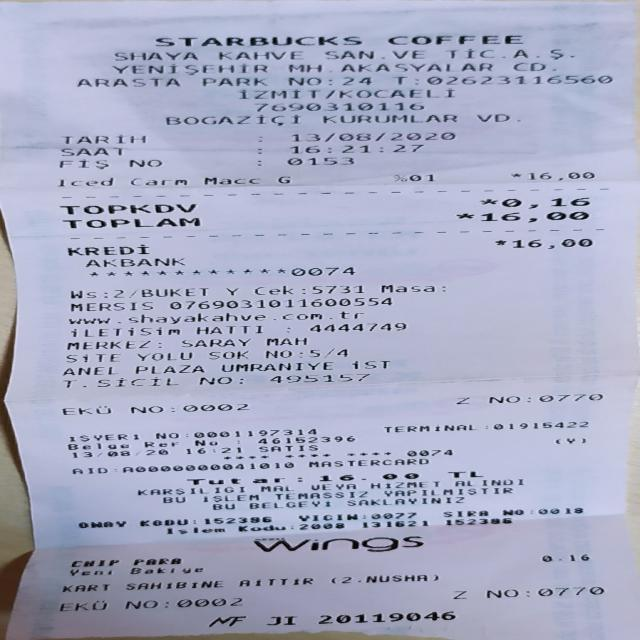text: (250, 537, 423, 551), (66, 313, 364, 321), (153, 35, 359, 46), (109, 62, 265, 76), (425, 74, 610, 85), (343, 61, 498, 74), (311, 611, 457, 624), (166, 299, 391, 307), (253, 102, 423, 112), (320, 112, 458, 124), (164, 114, 300, 126), (386, 33, 520, 45), (445, 48, 572, 60), (61, 217, 198, 228), (289, 132, 454, 141), (58, 203, 196, 213), (380, 487, 514, 497), (334, 87, 452, 98), (74, 76, 178, 88), (288, 144, 423, 153), (478, 211, 588, 222), (346, 496, 465, 506), (218, 361, 334, 371), (82, 256, 184, 267), (216, 49, 300, 62), (265, 372, 371, 382), (66, 327, 181, 336), (67, 300, 153, 312), (112, 50, 196, 62), (306, 322, 406, 332), (134, 486, 244, 495), (314, 472, 419, 481), (120, 580, 224, 589), (94, 376, 178, 387), (237, 88, 320, 99), (499, 198, 588, 208), (62, 340, 151, 350), (175, 596, 248, 608), (129, 286, 208, 297), (64, 244, 150, 254), (63, 133, 140, 144), (235, 577, 312, 588), (284, 155, 352, 167), (511, 238, 592, 248), (178, 402, 249, 413), (273, 491, 370, 499), (191, 430, 319, 436), (380, 424, 476, 432), (247, 500, 331, 509), (178, 338, 252, 348), (131, 363, 203, 373), (377, 282, 436, 294), (200, 76, 264, 87), (286, 266, 355, 276), (58, 364, 115, 376), (306, 282, 362, 294), (368, 572, 433, 582), (59, 146, 123, 156), (62, 352, 120, 363), (194, 325, 264, 334), (488, 422, 592, 428), (57, 158, 108, 170), (127, 566, 203, 574), (63, 433, 139, 441), (322, 49, 372, 61), (134, 351, 194, 361), (69, 450, 168, 456), (58, 405, 111, 416), (474, 110, 515, 124), (441, 517, 512, 525), (532, 587, 603, 595), (283, 61, 323, 75), (56, 582, 112, 592), (52, 600, 108, 610), (527, 172, 593, 180), (128, 176, 186, 185), (119, 465, 293, 468), (189, 478, 290, 483), (56, 177, 112, 186), (202, 175, 258, 184), (199, 494, 262, 502), (254, 437, 354, 442), (68, 558, 118, 568), (200, 516, 271, 523), (305, 460, 428, 464), (357, 520, 427, 527), (204, 348, 248, 359), (252, 284, 292, 296), (163, 526, 223, 534), (536, 394, 603, 401), (393, 48, 429, 61), (348, 358, 390, 369), (233, 523, 284, 532), (194, 374, 232, 386), (66, 442, 131, 449), (534, 506, 584, 515), (74, 520, 129, 528), (367, 482, 440, 488), (263, 336, 306, 346), (305, 347, 348, 357), (452, 479, 523, 485), (127, 156, 162, 168), (298, 513, 357, 520), (367, 511, 418, 519), (121, 598, 158, 609), (286, 75, 319, 87), (67, 567, 111, 576), (481, 588, 520, 598), (126, 403, 161, 414), (262, 614, 297, 625), (296, 522, 344, 530), (255, 445, 316, 451), (132, 558, 184, 565), (66, 287, 96, 299), (511, 62, 547, 72), (262, 348, 294, 359), (140, 440, 183, 448), (135, 518, 184, 525), (183, 447, 240, 453), (404, 449, 452, 456), (340, 75, 370, 86), (440, 509, 487, 516), (538, 554, 588, 560), (62, 377, 86, 389), (484, 395, 520, 403), (259, 484, 294, 492), (344, 572, 367, 584), (152, 431, 181, 440), (553, 437, 589, 444), (68, 467, 107, 473), (454, 211, 473, 223), (158, 495, 185, 503), (446, 471, 481, 477), (447, 588, 468, 598), (377, 48, 393, 61), (407, 173, 433, 181), (331, 482, 357, 490), (327, 573, 344, 585), (430, 570, 447, 582), (223, 284, 238, 297), (192, 438, 216, 446), (478, 198, 497, 208), (210, 502, 233, 510), (110, 286, 123, 299), (392, 74, 406, 86), (499, 508, 523, 515), (274, 174, 290, 184), (295, 347, 307, 359), (452, 396, 470, 404), (160, 596, 172, 608), (433, 280, 444, 293), (310, 483, 330, 490), (327, 87, 337, 99), (493, 238, 505, 248), (181, 431, 195, 439), (233, 374, 242, 386), (99, 287, 107, 299), (298, 283, 306, 295), (522, 394, 531, 403), (522, 587, 530, 597), (125, 286, 131, 299), (509, 172, 522, 178), (294, 475, 305, 482), (394, 173, 402, 182), (186, 516, 195, 524), (156, 338, 162, 349), (412, 74, 417, 86), (326, 75, 331, 86), (253, 148, 262, 154), (168, 402, 172, 414), (358, 514, 366, 520), (254, 136, 262, 142), (235, 437, 240, 446), (254, 160, 261, 166)
